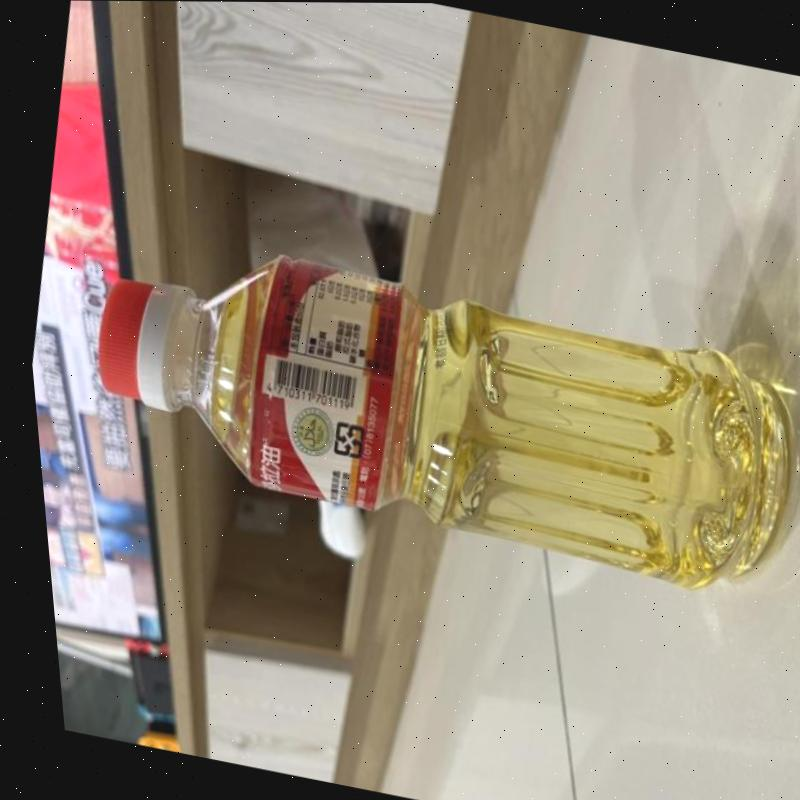botella: (60, 221, 800, 601)
